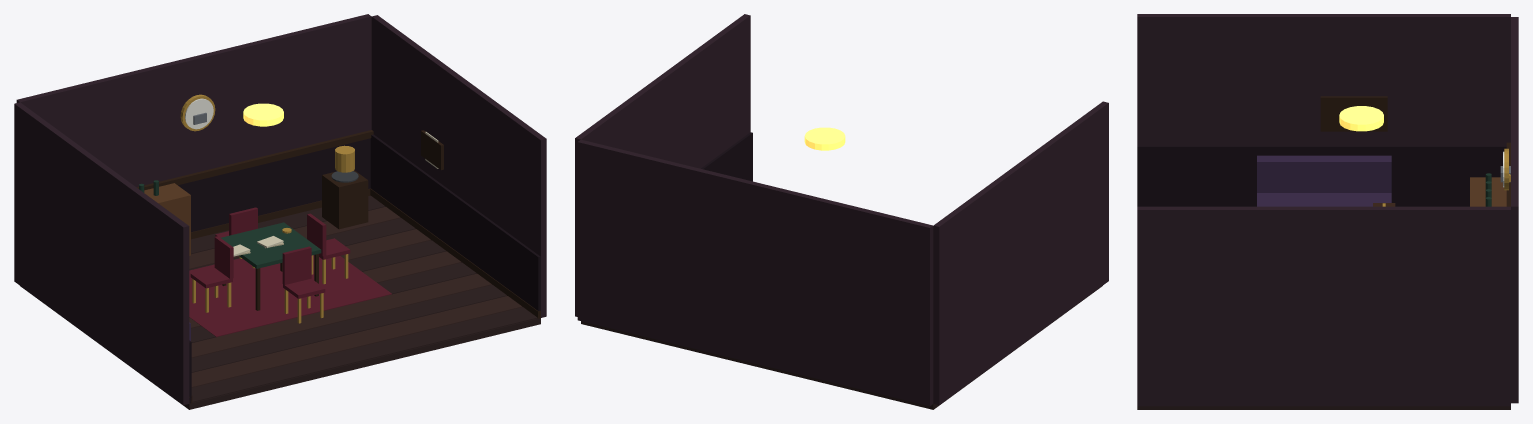
The model's file is lounge.glb.
The picture shows the model from 3 angles, left to right: view 1: azimuth 30°, elevation 25°; view 2: azimuth 150°, elevation 25°; view 3: azimuth 270°, elevation 25°; orthographic projection. The views are drawn at different scales.
Parts seen in each view (by area): view 1: WallBack, WallLeft, WallRight, BandRight, Rug, BandBack, Plank0, Plank1, Plank2, Plank3, Floor, GramoBase (+22 smaller); view 2: WallBack, WallLeft, WallRight, Floor, BandRight, Pend; view 3: WallRight, WallLeft, BandLeft, SofaBack, WallBack, Sofa, WallBoard, Floor, Pend, Bar.
Part boxes in pixels (bbox=[...]): WallBack: bbox=[16, 14, 371, 187]; WallLeft: bbox=[14, 102, 189, 405]; WallRight: bbox=[371, 15, 546, 317]; BandRight: bbox=[370, 134, 540, 311]; Rug: bbox=[189, 255, 391, 337]; BandBack: bbox=[178, 138, 370, 232]; Plank0: bbox=[191, 307, 537, 402]; Plank1: bbox=[191, 296, 522, 387]; Plank2: bbox=[191, 284, 506, 372]; Plank3: bbox=[191, 273, 491, 357]; Floor: bbox=[20, 286, 540, 409]; GramoBase: bbox=[322, 170, 368, 229]; WallBack: bbox=[577, 139, 933, 406]; WallLeft: bbox=[933, 101, 1108, 404]; WallRight: bbox=[575, 14, 750, 316]; Floor: bbox=[581, 286, 1102, 409]; BandRight: bbox=[701, 132, 752, 181]; Pend: bbox=[804, 127, 845, 150]; WallRight: bbox=[1137, 206, 1510, 406]; WallLeft: bbox=[1137, 14, 1510, 145]; BandLeft: bbox=[1137, 146, 1506, 206]; SofaBack: bbox=[1257, 155, 1391, 192]; WallBack: bbox=[1511, 17, 1518, 403]; Sofa: bbox=[1257, 193, 1391, 206]; WallBoard: bbox=[1320, 96, 1387, 131]; Floor: bbox=[1137, 406, 1510, 409]; Pend: bbox=[1339, 106, 1383, 131]; Bar: bbox=[1470, 177, 1506, 206].
Size of the model in its own units: 6.2 by 3 by 5.1.
